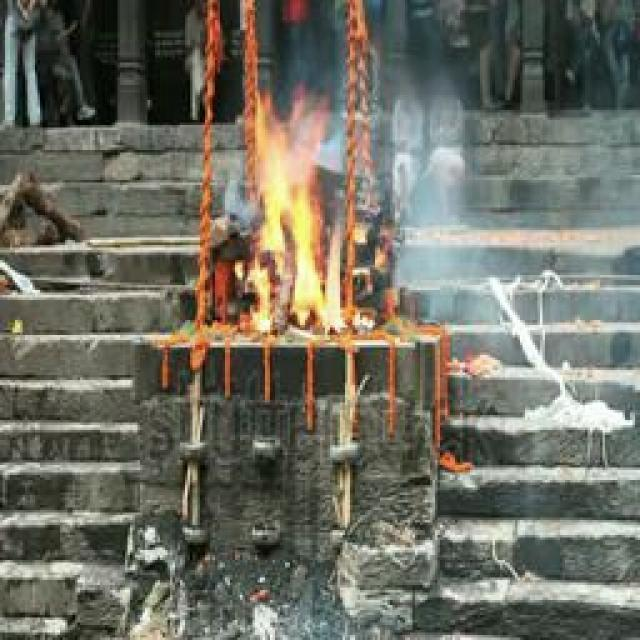Fire: (246, 104, 351, 330)
